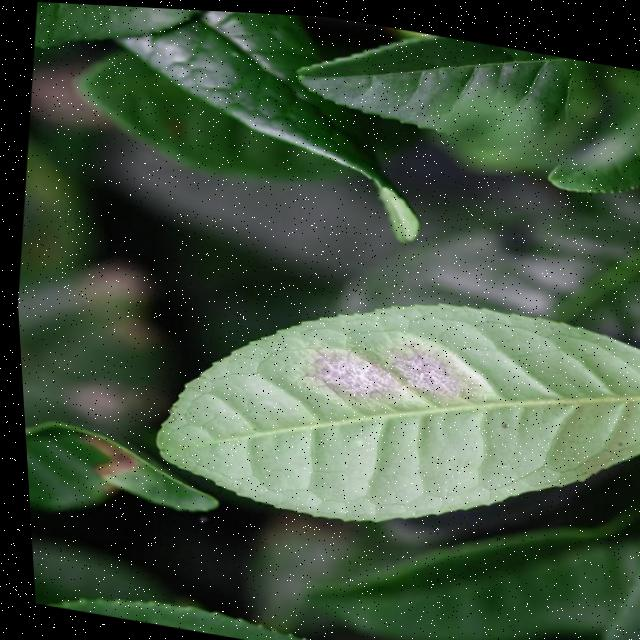Tea exobasidium blight: (286, 314, 467, 424)
